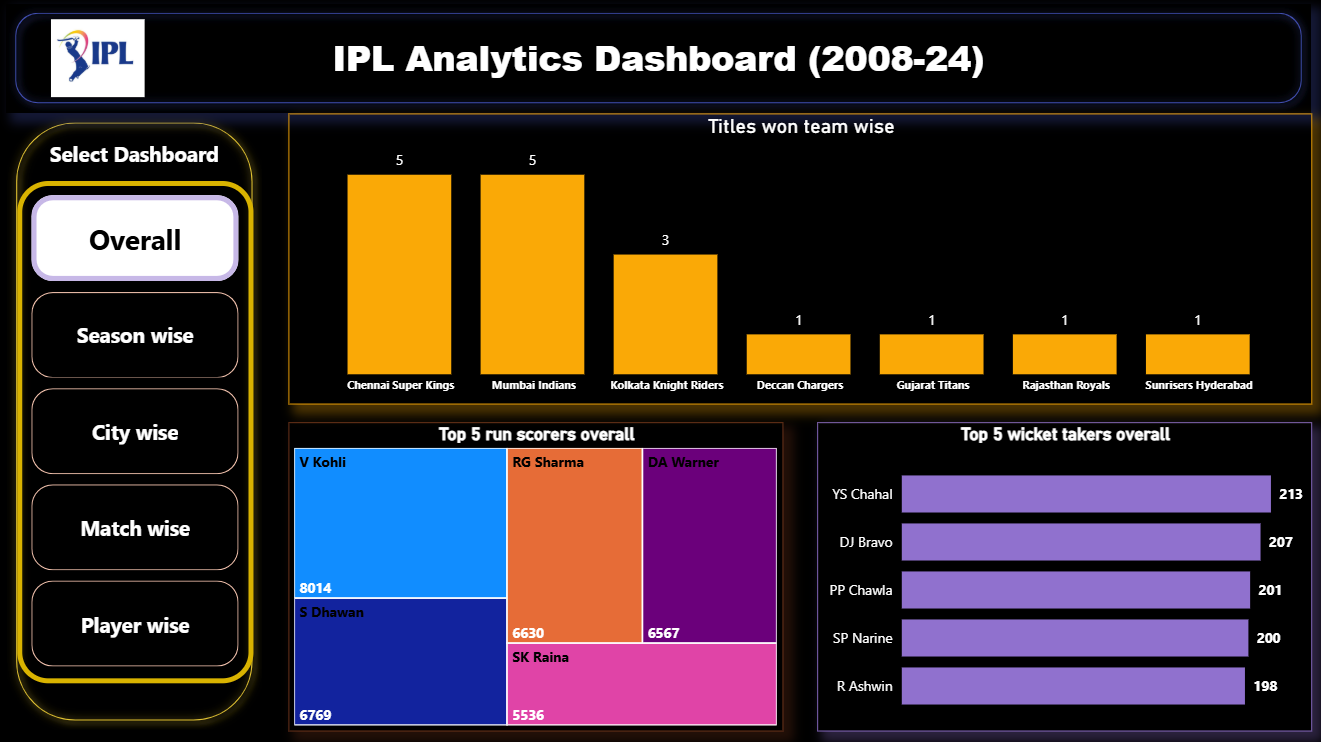

What the dashboard file says about the page in this screenshot:
{"tool":"powerbi","page":{"name":"Overall","canvas":[1280,720],"ordinal":0},"visuals":[{"type":"shape","box":[10.1,112.5,248.2,597.3],"z":0},{"type":"shape","box":[10.1,7.2,1259.5,105.3],"z":1000},{"type":"clusteredBarChart","title":"Top 5 wicket takers overall","fields":{"Category":["Top 5 Wicket takers.bowler"],"Y":["Top 5 Wicket takers.TotalWickets"]},"box":[792.1,411.2,477.6,298.7],"z":2000},{"type":"treemap","title":"Top 5 run scorers overall","fields":{"Group":["Top 5 Run Scorers.batter"],"Values":["Top 5 Run Scorers.TotalRuns"]},"box":[282.8,411.2,477.6,298.7],"z":3000},{"type":"clusteredColumnChart","title":"Titles won team wise","fields":{"Category":["matches.winner"],"Y":["Team1Table.Team Wise Finals Won"]},"box":[282.3,113.4,988.1,281.1],"z":4000},{"type":"pageNavigator","box":[20.5,178.6,228,485],"z":5000},{"type":"image","box":[33.8,16.9,100.1,86.9],"z":6000}]}

Visuals, with their boxes in screenshot pixels (x1, y1, x2, y2), scaled from the page's 1280x720 canvas onto the 1321x742 screenshot:
shape: rect(10, 116, 267, 731)
shape: rect(10, 7, 1310, 116)
"Top 5 wicket takers overall" clusteredBarChart: rect(817, 424, 1310, 732)
"Top 5 run scorers overall" treemap: rect(292, 424, 785, 732)
"Titles won team wise" clusteredColumnChart: rect(291, 117, 1311, 407)
pageNavigator: rect(21, 184, 256, 684)
image: rect(35, 17, 138, 107)
